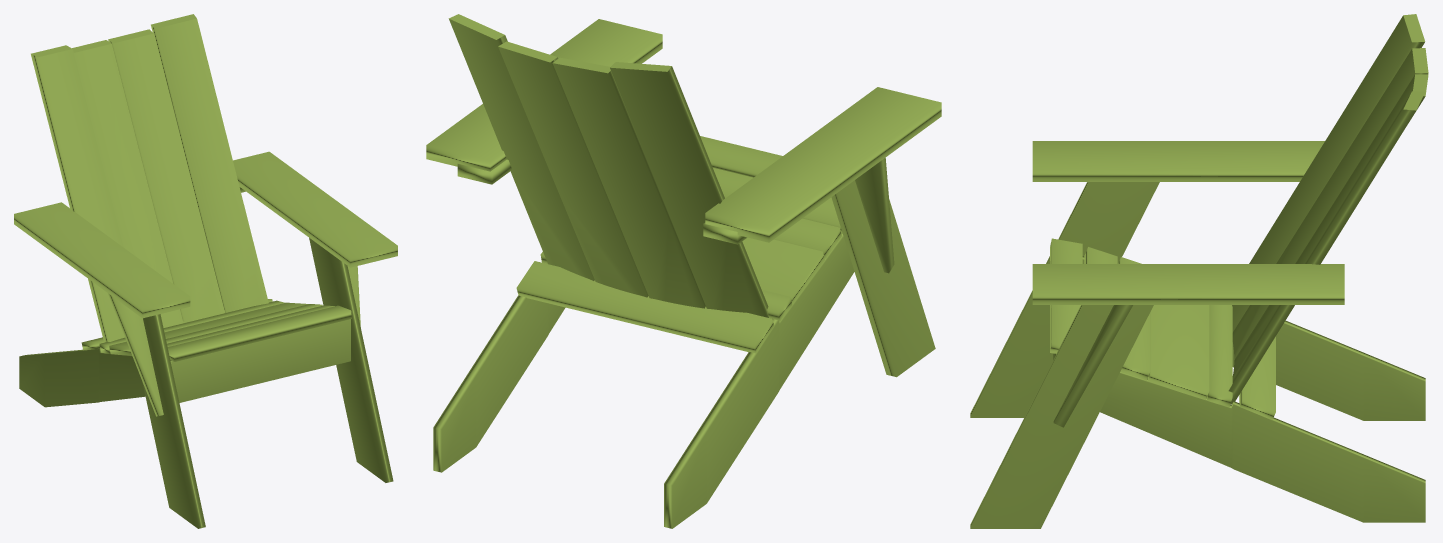
The model's file is 3659c57c-cdb8-4ce1-84b9-3e4a3a1592ab.glb.
The picture shows the model from 3 angles, left to right: view 1: azimuth 30°, elevation 25°; view 2: azimuth 150°, elevation 25°; view 3: azimuth 270°, elevation 25°; orthographic projection. The views are drawn at different scales.
Visible parts, largest first — view 1: AdirondackChair.004; view 2: AdirondackChair.004; view 3: AdirondackChair.004.
Part boxes in pixels (x1=…): AdirondackChair.004: x1=14, y1=14, x2=397, y2=528; AdirondackChair.004: x1=426, y1=14, x2=941, y2=528; AdirondackChair.004: x1=970, y1=14, x2=1428, y2=528.
Size of what is drawn, in the model's own units: 1.07 by 1.35 by 1.37.
Materials: 1 (1 with a texture image).
